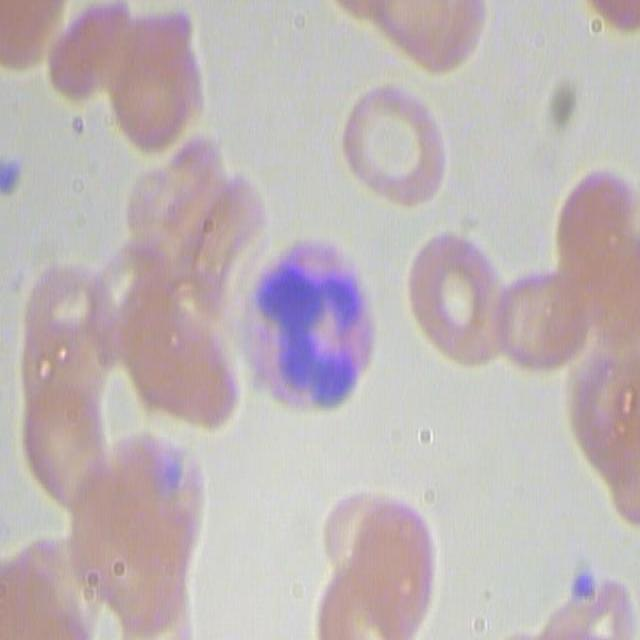RBC: (60, 420, 202, 640), (120, 138, 254, 315), (314, 484, 444, 639), (91, 3, 206, 164), (407, 221, 504, 374), (337, 81, 446, 217), (14, 258, 124, 386), (556, 166, 639, 321), (566, 347, 640, 473), (4, 536, 87, 640), (378, 0, 486, 74), (545, 589, 640, 640), (0, 0, 60, 72)
WBC: (235, 230, 376, 430)
platelets: (576, 550, 599, 616)
